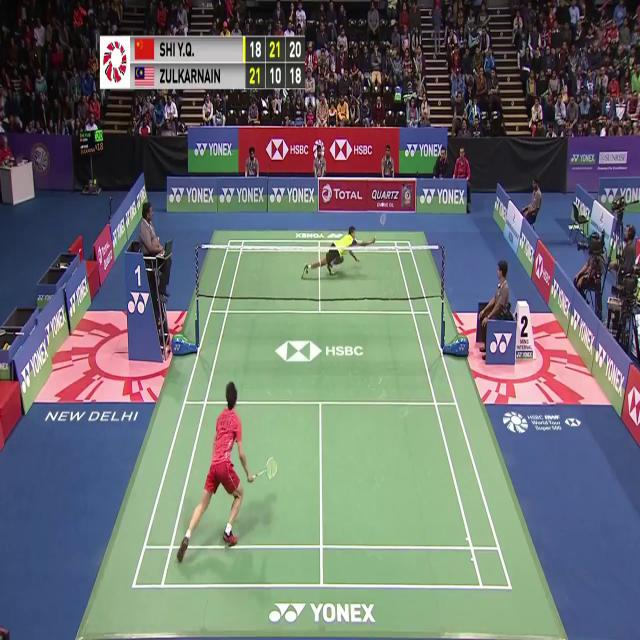Shuttlecock: (378, 197, 384, 208)
